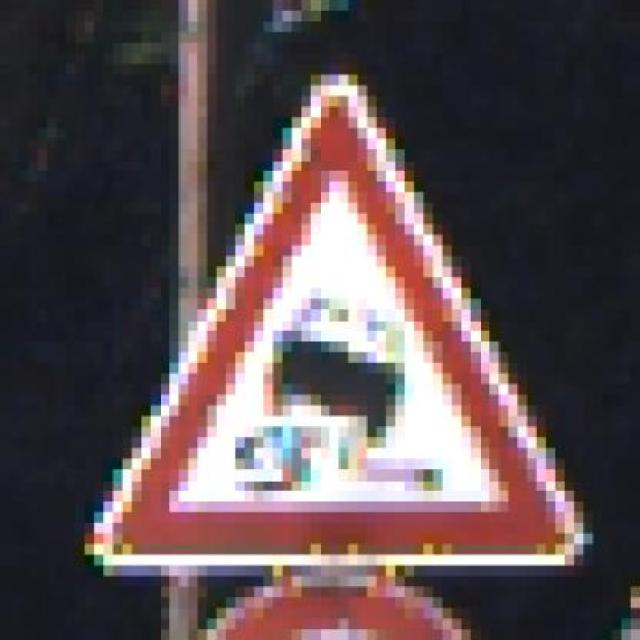Slippery Road Ahead: (85, 64, 603, 576)
